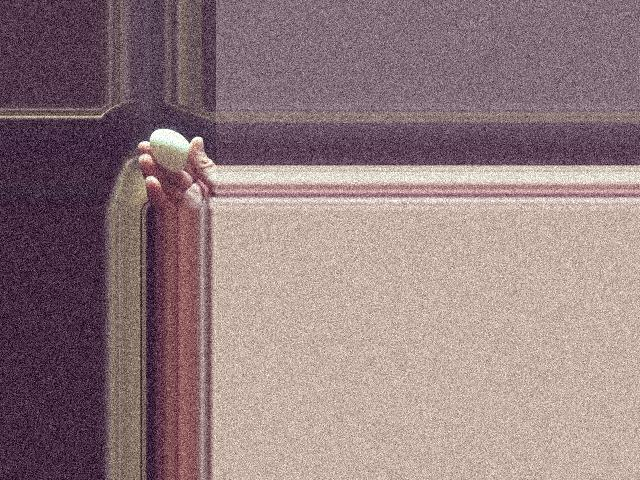egg: (150, 129, 190, 171)
